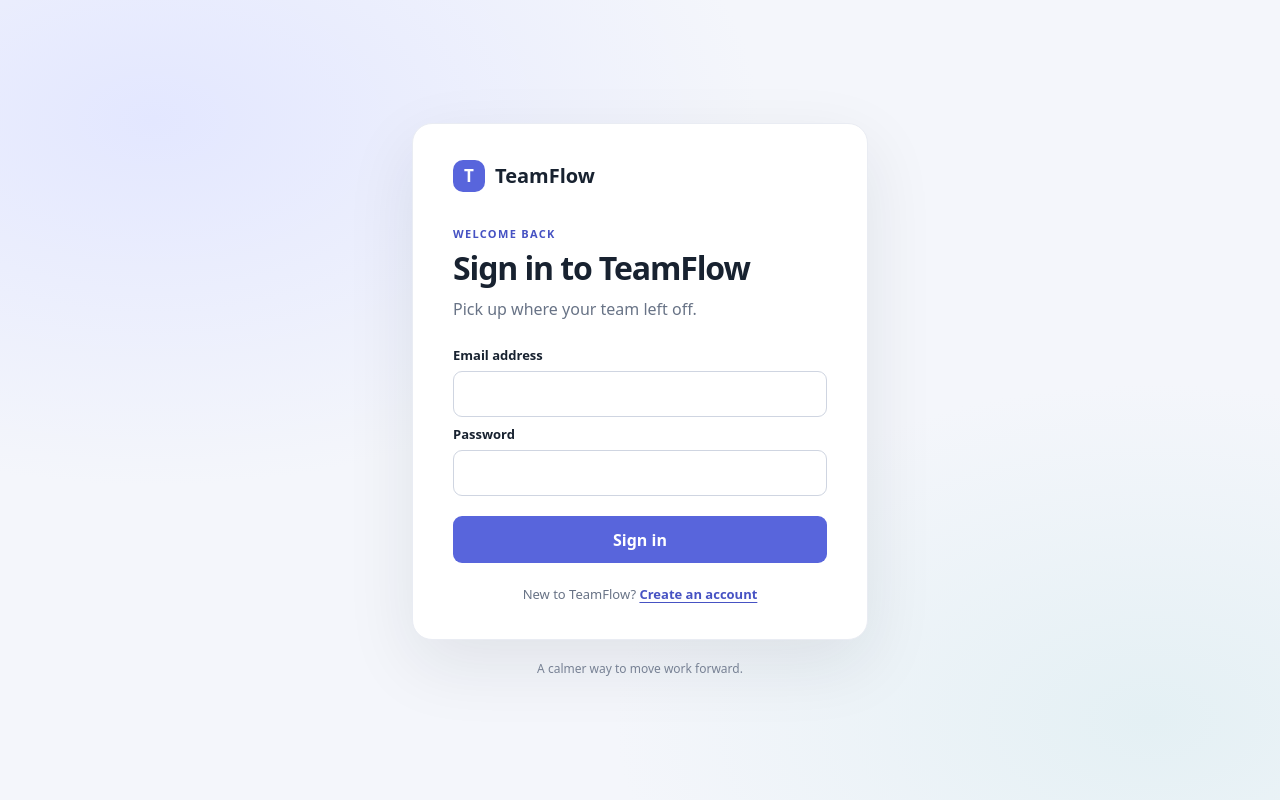
Scenario: authentication flow › shows accessible client-side validation without sending invalid input
Click the link "Create an account" at {"x": 698, "y": 594}, box [639,586,757,604]
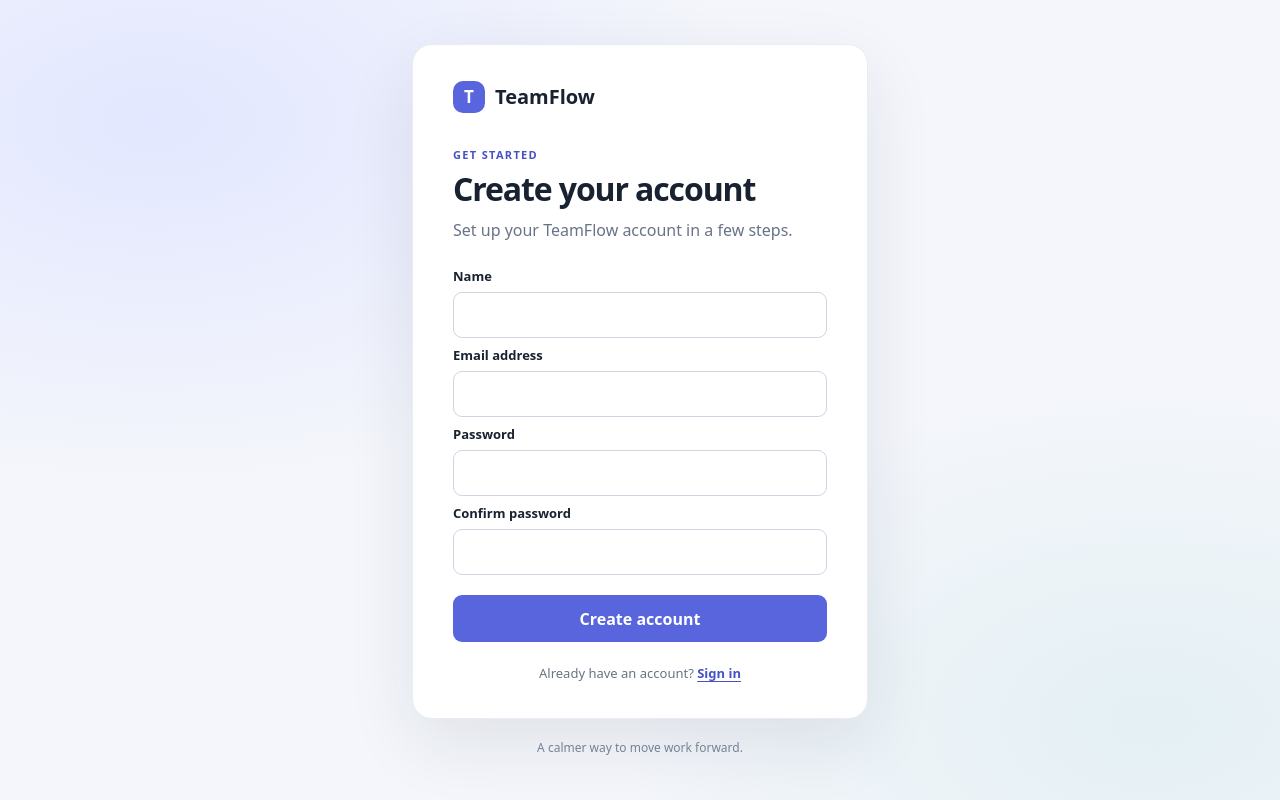
Click the button "Create account" at {"x": 640, "y": 619}, box [453,596,827,642]
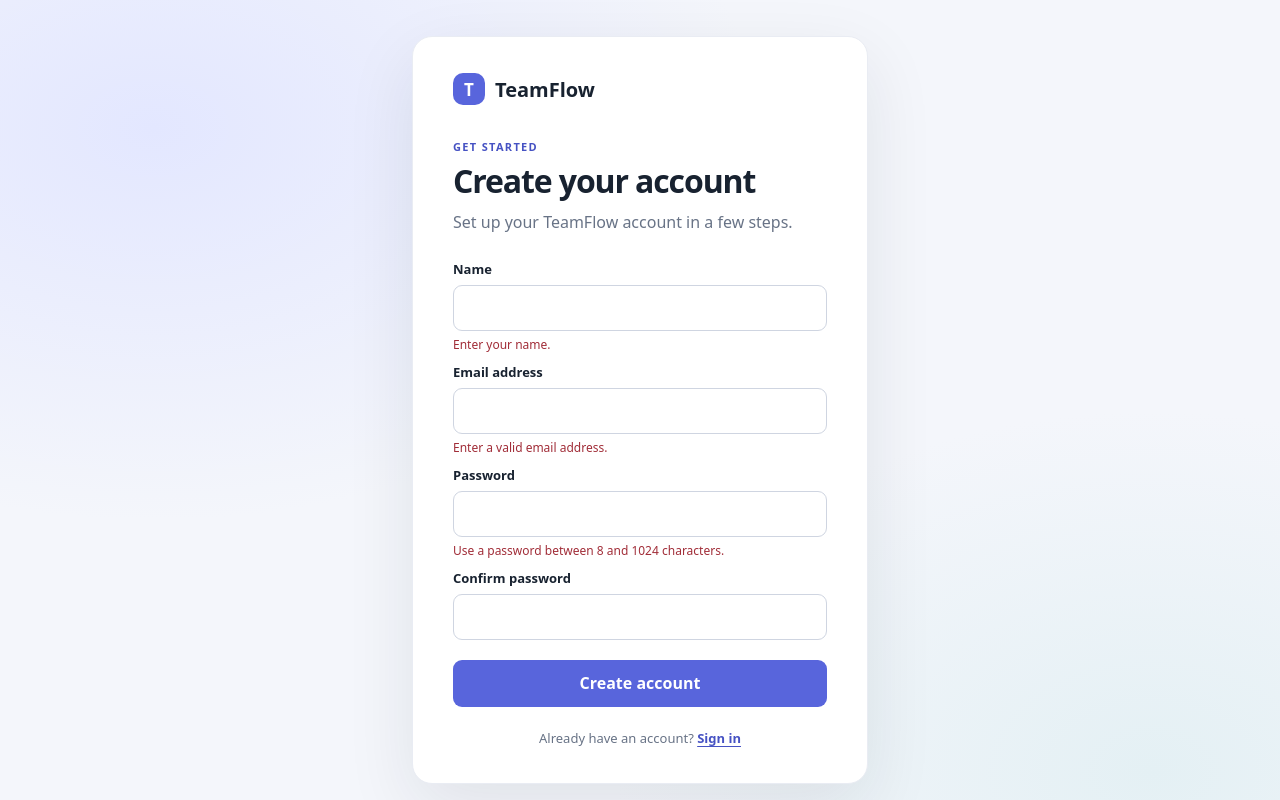
Check: the text "Enter your name." is shown, box [453,336,550,353]
Check: the text "Enter a valid email address." is shown, box [453,439,607,456]
